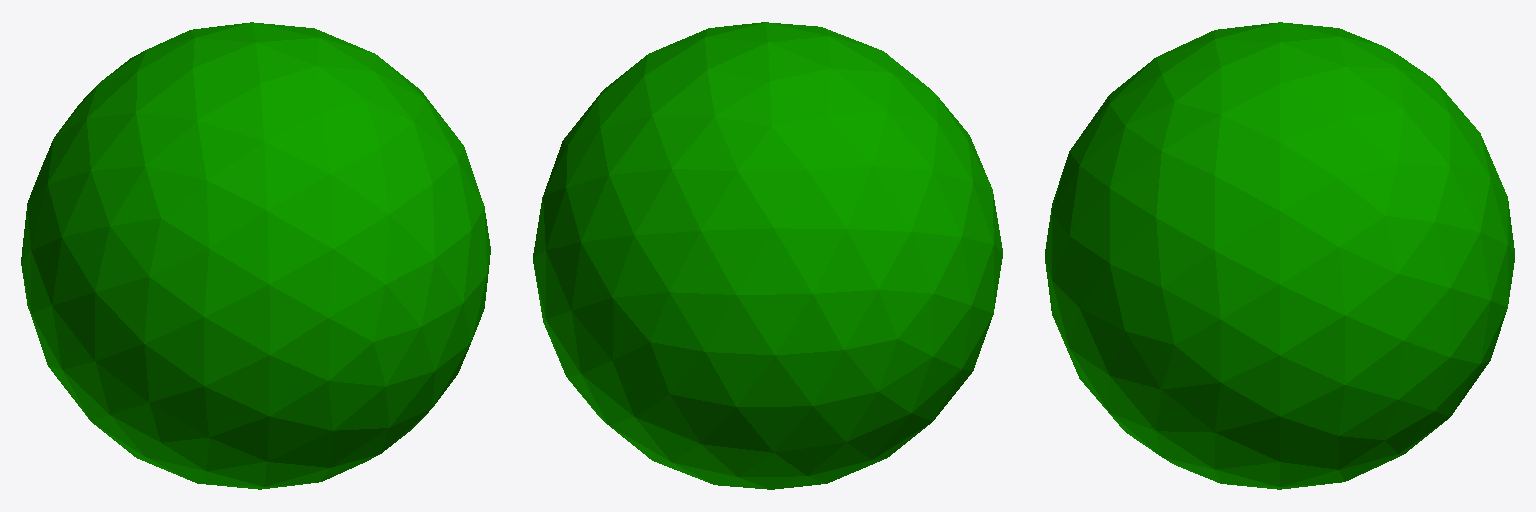
File: planet.obj
The picture shows the model from 3 angles: view 1: azimuth 30°, elevation 25°; view 2: azimuth 150°, elevation 25°; view 3: azimuth 270°, elevation 25°; orthographic projection.
Parts seen in each view (by area): view 1: Icosphere.001; view 2: Icosphere.001; view 3: Icosphere.001.
Boxes of the visible parts, x1,y1,x2,y2 form: Icosphere.001: [21, 22, 490, 489]; Icosphere.001: [533, 22, 1002, 489]; Icosphere.001: [1045, 22, 1514, 489].
Size of the model in its own units: 29.21 by 29.21 by 29.21.